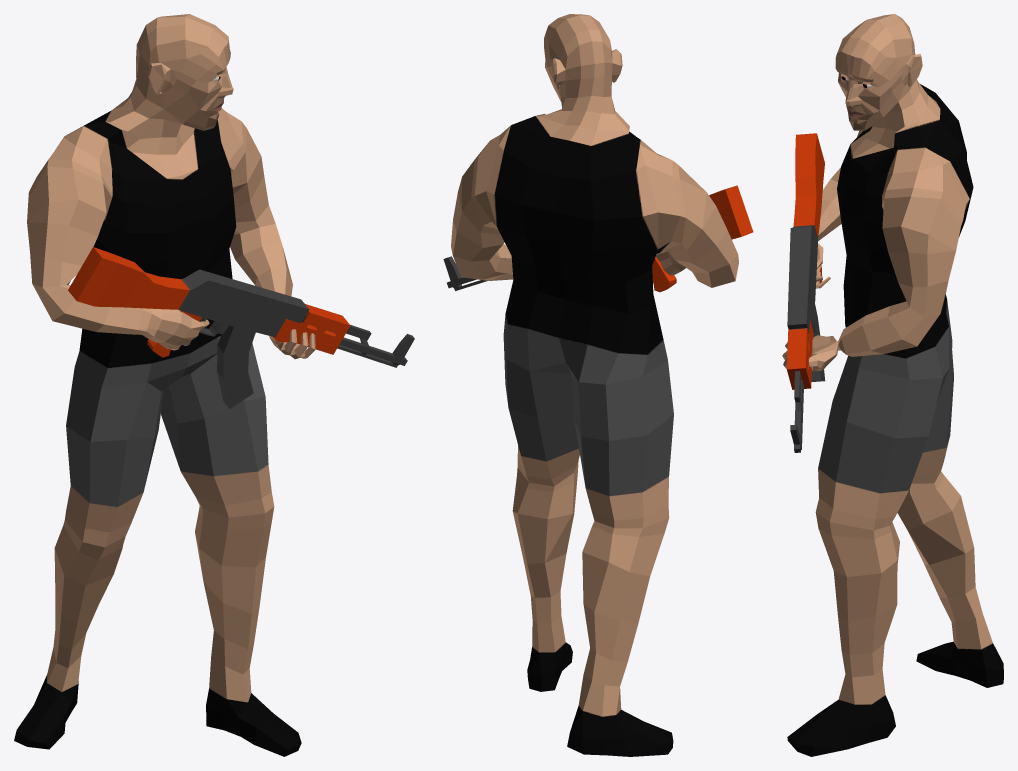
Rendered from PlayerIdle(130).obj.
The picture shows the model from 3 angles, left to right: view 1: azimuth 30°, elevation 25°; view 2: azimuth 150°, elevation 25°; view 3: azimuth 270°, elevation 25°; orthographic projection. The views are drawn at different scales.
Parts seen in each view (by area): view 1: Plane002, Object001; view 2: Plane002, Object001; view 3: Plane002, Object001.
Boxes of the visible parts, box(x1,y1,x2,y2) form: Plane002: box(14, 14, 332, 756); Object001: box(68, 247, 414, 408); Plane002: box(451, 14, 738, 756); Object001: box(443, 185, 753, 292); Plane002: box(782, 14, 1003, 756); Object001: box(786, 133, 825, 452).
Size of the model in its own units: 889 by 1795 by 517.
